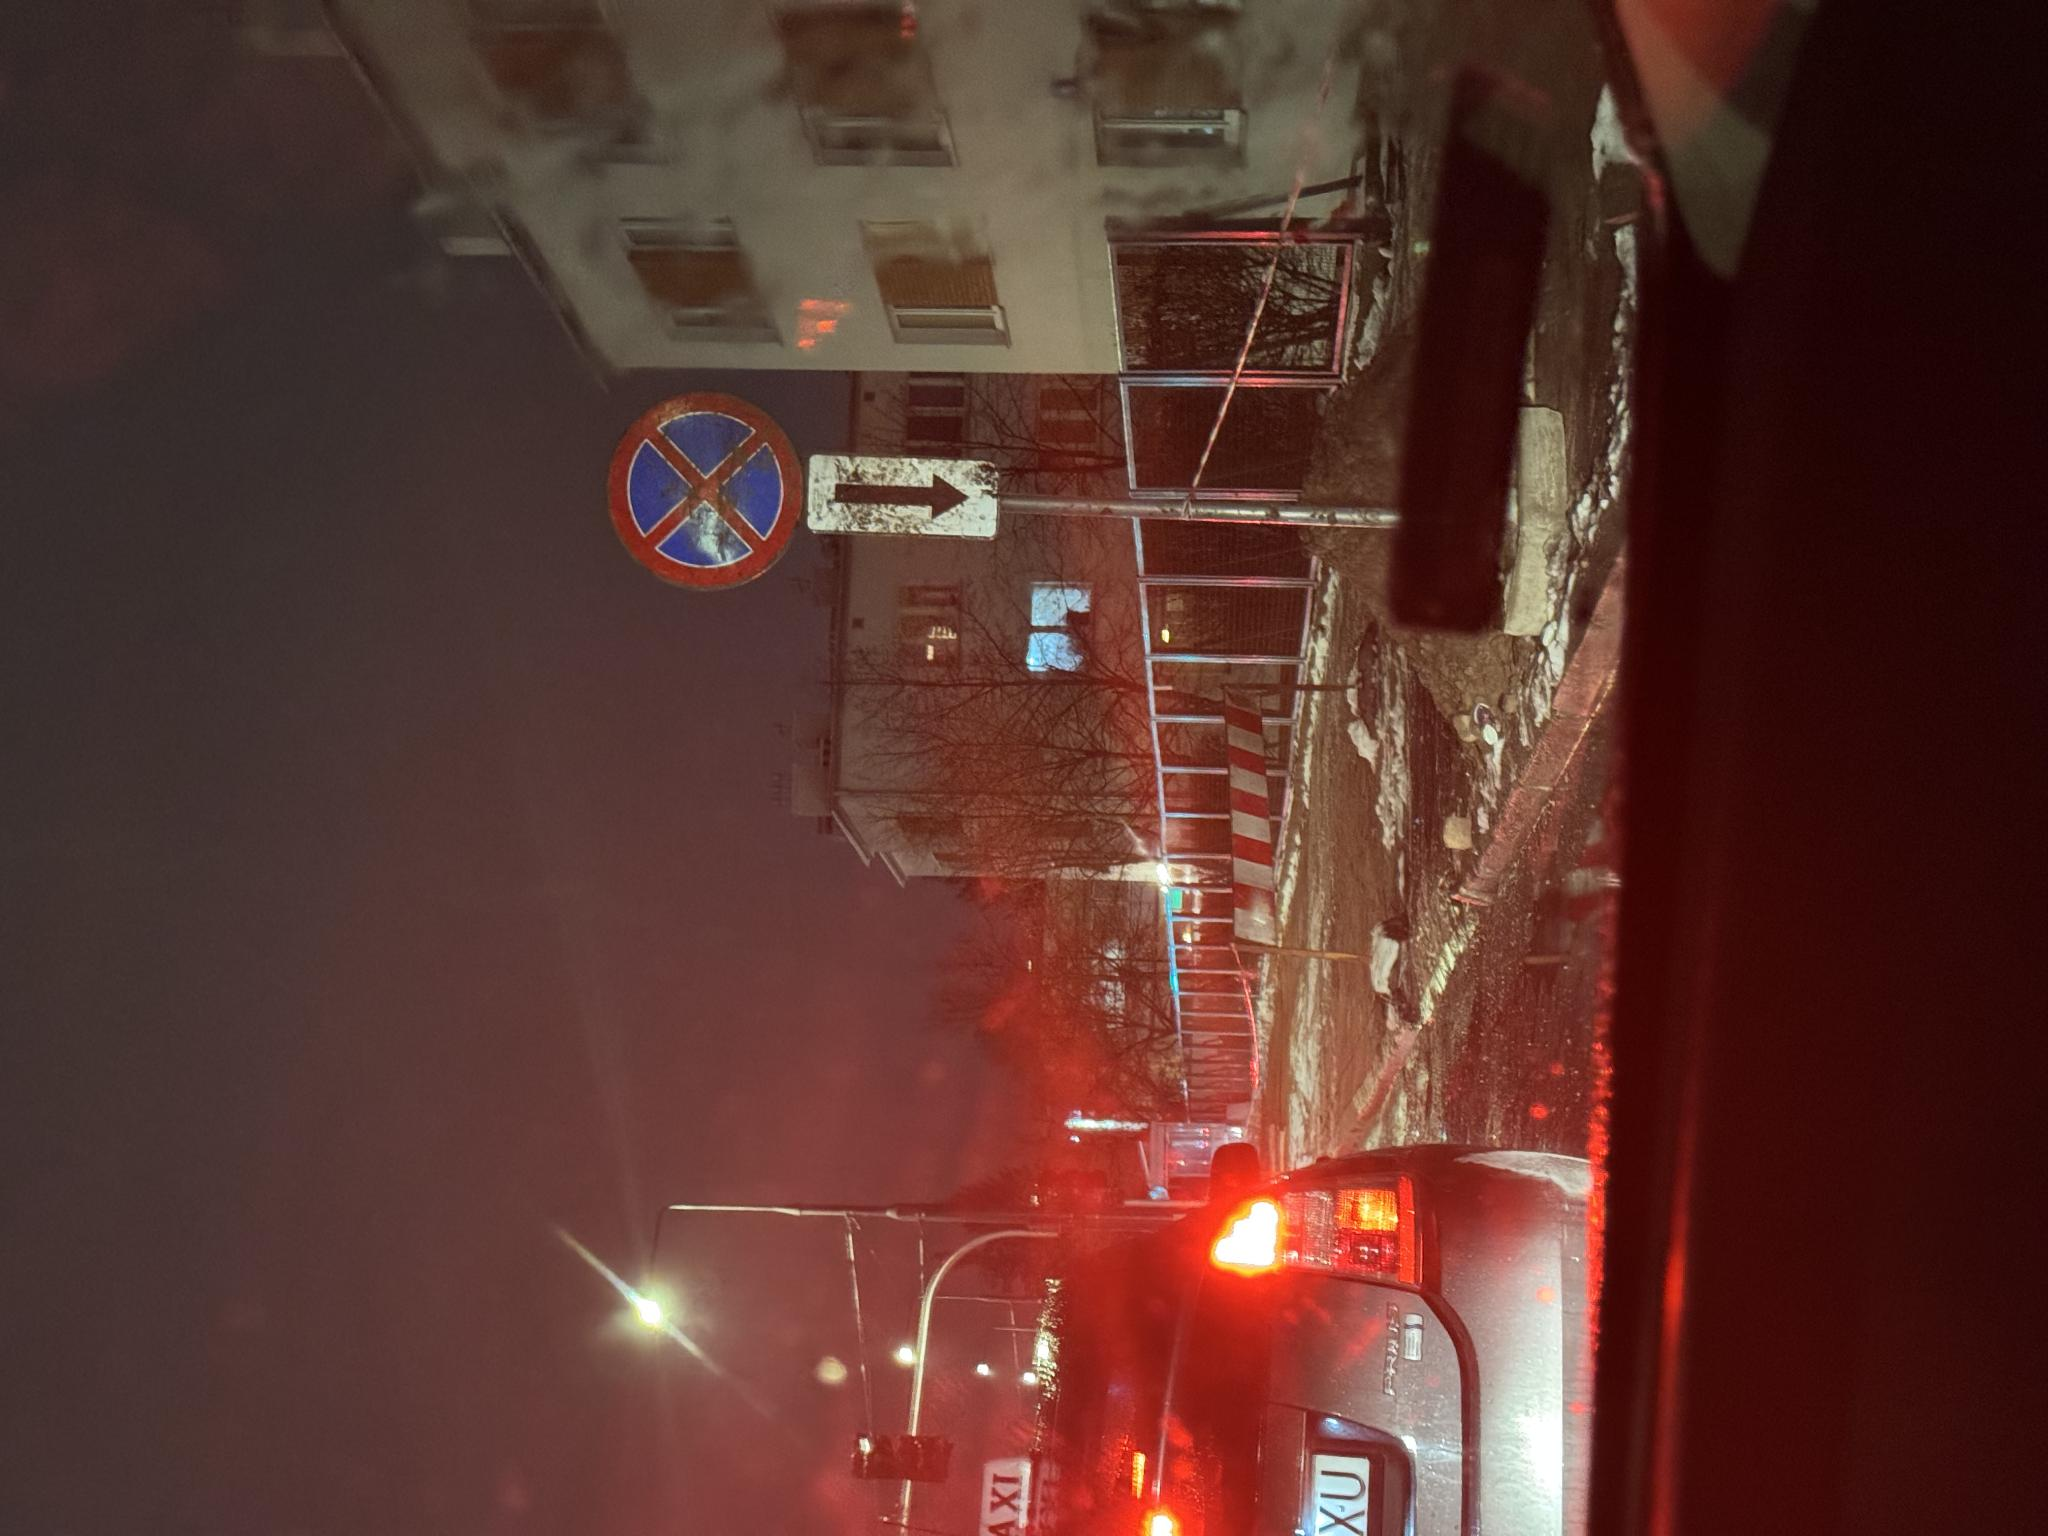other: (997, 805, 1084, 1002)
prohibitory: (945, 603, 1147, 807)
